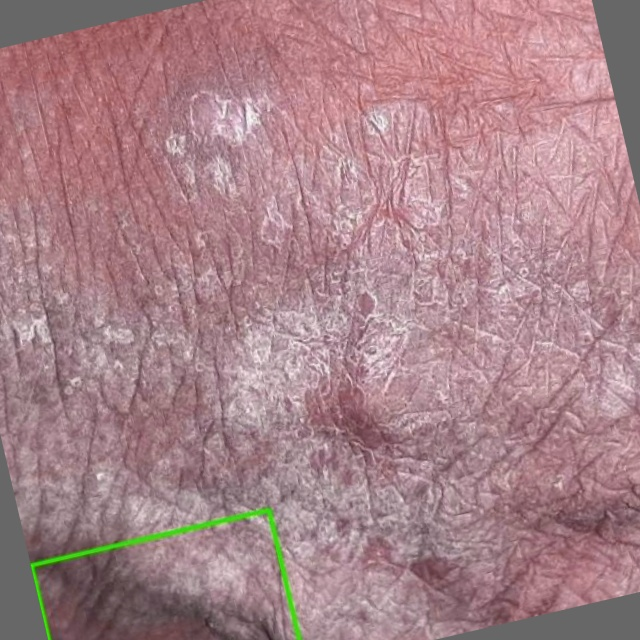Eczema: (31, 510, 299, 639)
